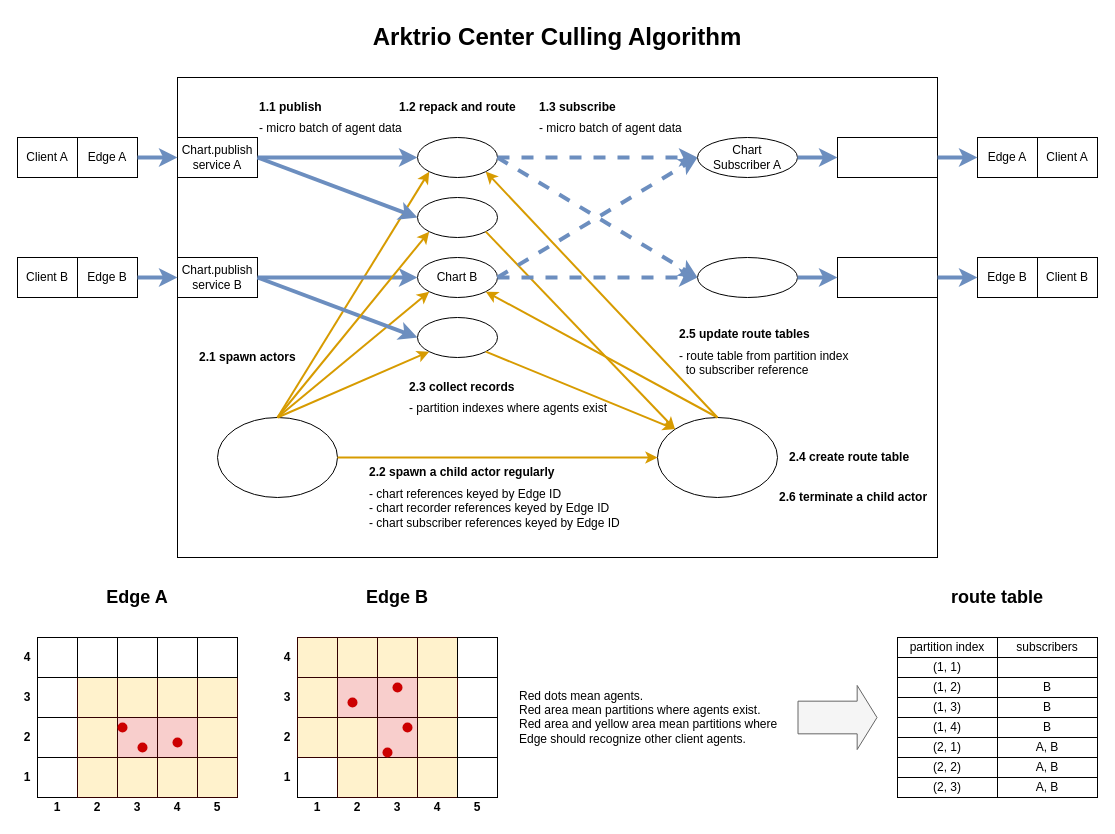
Image size: 1115x834. Some labels were removed from this diagram. Here are the shapes that lost their labels. From the top down, the box of each, then its label:
(416, 136, 498, 178): Chart A
(836, 136, 938, 178): Chart.subscribe service A
(416, 196, 498, 238): Chart Recorder A
(696, 256, 798, 298): Chart Subscriber B
(836, 256, 938, 298): Chart.subscribe service B
(416, 316, 498, 358): Chart Recorder B
(216, 416, 338, 498): Atlas
(656, 416, 778, 498): Atlas. updateRouteTable
